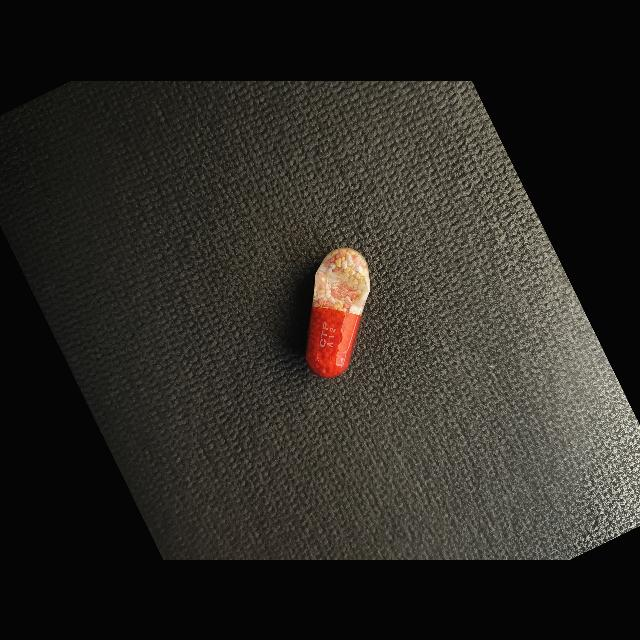Defective Capsule: (306, 247, 370, 377)
